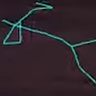hacks_2: (2, 2, 96, 85)
